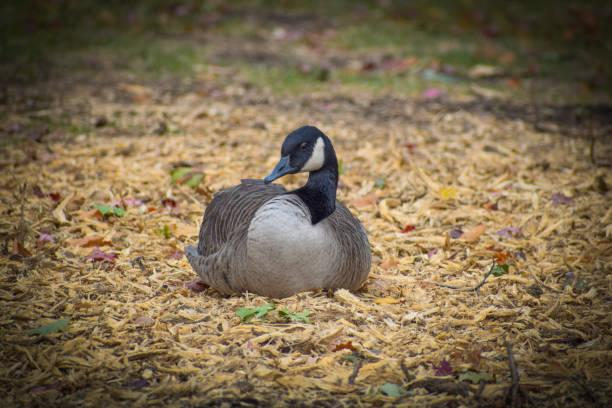Canadian-Goose: (187, 124, 372, 293)
